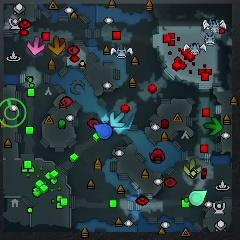p1: (93, 123, 112, 140)
p2: (189, 190, 208, 206)
x1: (27, 36, 44, 55)
x2: (183, 159, 202, 178)
x3: (109, 111, 125, 128)
x4: (204, 117, 223, 136)
x5: (48, 37, 66, 55)
